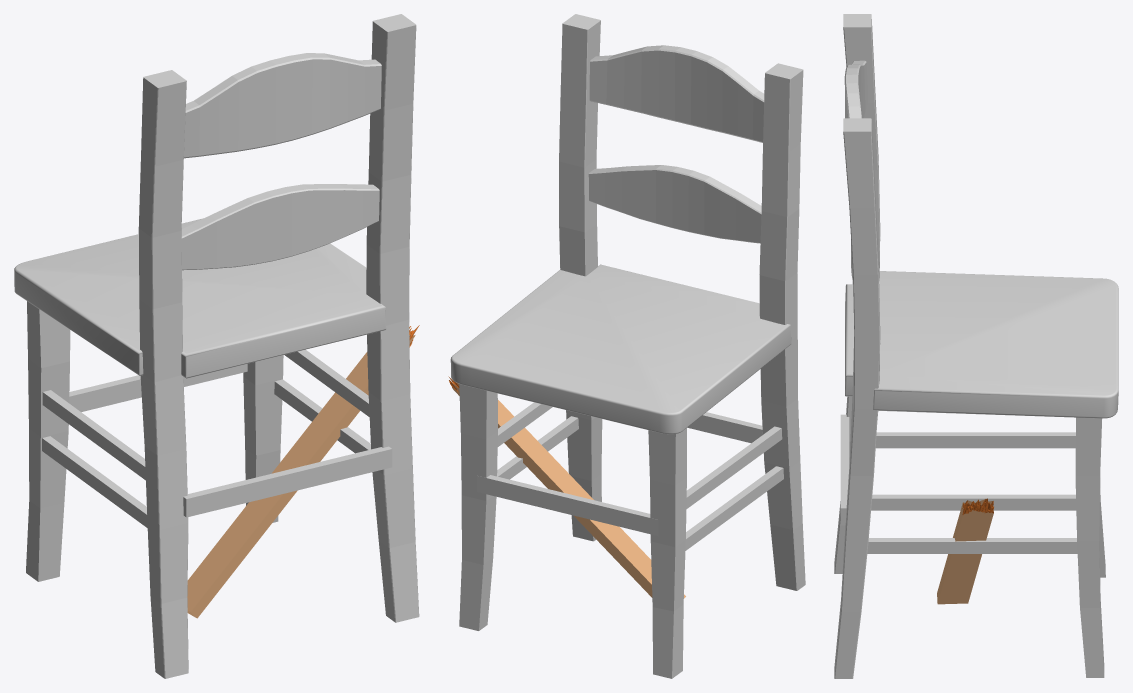
Rendered from chair.fbx.
The picture shows the model from 3 angles, left to right: view 1: azimuth 30°, elevation 25°; view 2: azimuth 150°, elevation 25°; view 3: azimuth 270°, elevation 25°; orthographic projection. The views are drawn at different scales.
Visible parts, largest first — view 1: Cube.003, Cube.001; view 2: Cube.003, Cube.001; view 3: Cube.003, Cube.001.
Part boxes in pixels (x1,y1,x2,y2): Cube.003: (14,14,419,678); Cube.001: (187,325,419,618); Cube.003: (450,14,805,678); Cube.001: (448,376,685,598); Cube.003: (834,14,1118,678); Cube.001: (937,498,993,604).
Size of the model in its own units: 198 by 338 by 159.
